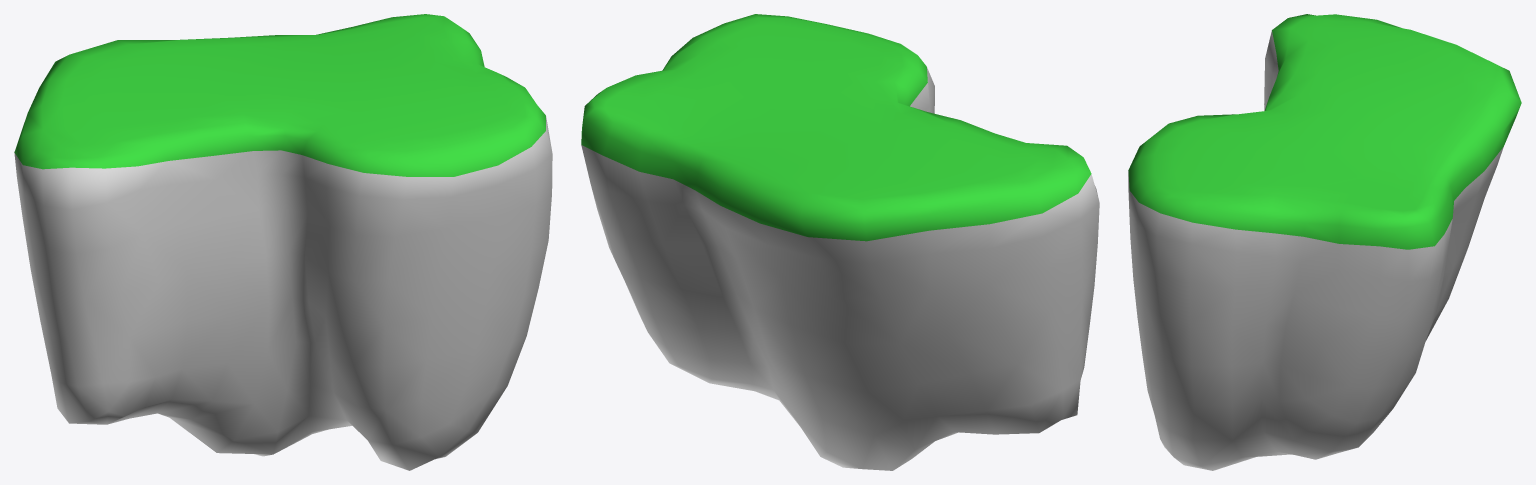
The model's file is platform_l_5_02.fbx.
3 renders of one model, left to right at view 1: azimuth 30°, elevation 25°; view 2: azimuth 150°, elevation 25°; view 3: azimuth 270°, elevation 25°, orthographic. The views are drawn at different scales.
Parts seen in each view (by area): view 1: platform_r_05; view 2: platform_r_05; view 3: platform_r_05.
Boxes of the visible parts, x1=… form: platform_r_05: x1=14, y1=14, x2=552, y2=470; platform_r_05: x1=581, y1=14, x2=1099, y2=470; platform_r_05: x1=1128, y1=14, x2=1521, y2=470.
Bounding box in the file's own units: 30.18 × 21.96 × 23.6.
